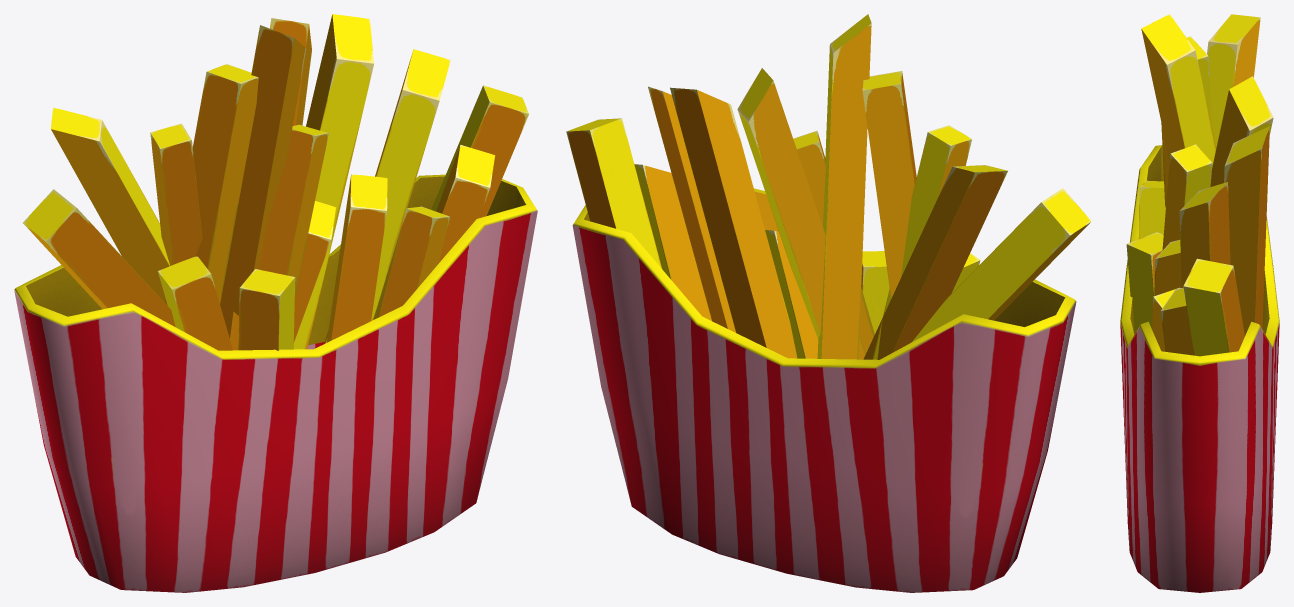
Rendered from FrenchFries.fbx.
The picture shows the model from 3 angles, left to right: view 1: azimuth 30°, elevation 25°; view 2: azimuth 150°, elevation 25°; view 3: azimuth 270°, elevation 25°; orthographic projection. The views are drawn at different scales.
Visible parts, largest first — view 1: 051; view 2: 051; view 3: 051.
Boxes of the visible parts, x1,y1,x2,y2 form: 051: (14,14,537,592); 051: (566,14,1091,592); 051: (1120,14,1279,592).
Size of the model in its own units: 47.27 by 47.59 by 13.93.
1 material, 1 textured.
